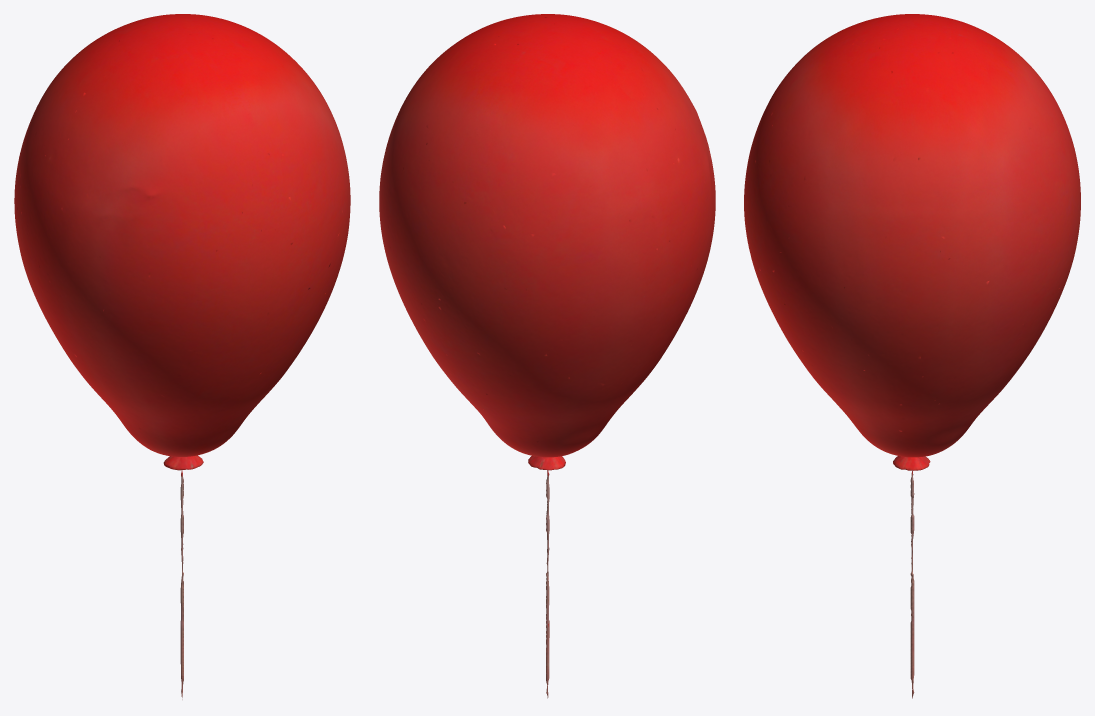
File: Meshy_AI_a_simple_balloon_0526165110_texture.glb
The picture shows the model from 3 angles, left to right: view 1: azimuth 30°, elevation 25°; view 2: azimuth 150°, elevation 25°; view 3: azimuth 270°, elevation 25°; orthographic projection.
Size of the model in its own units: 0.9062 by 2 by 0.9068.
1 material, 1 textured.
